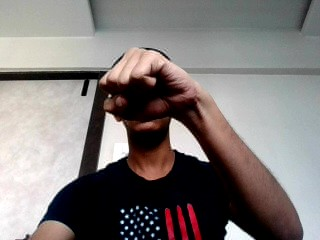hand: (99, 46, 202, 122)
